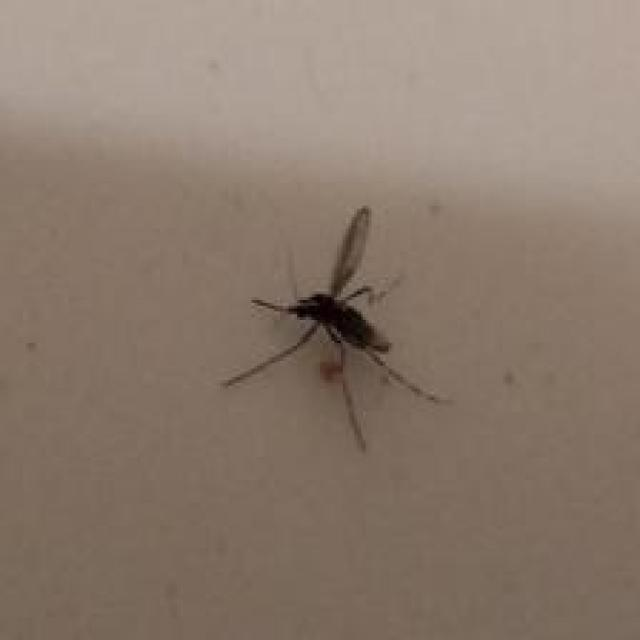Aedes albopictus: (220, 204, 454, 453)
